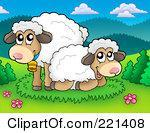sheep: (5, 12, 88, 93), (47, 41, 126, 91)
